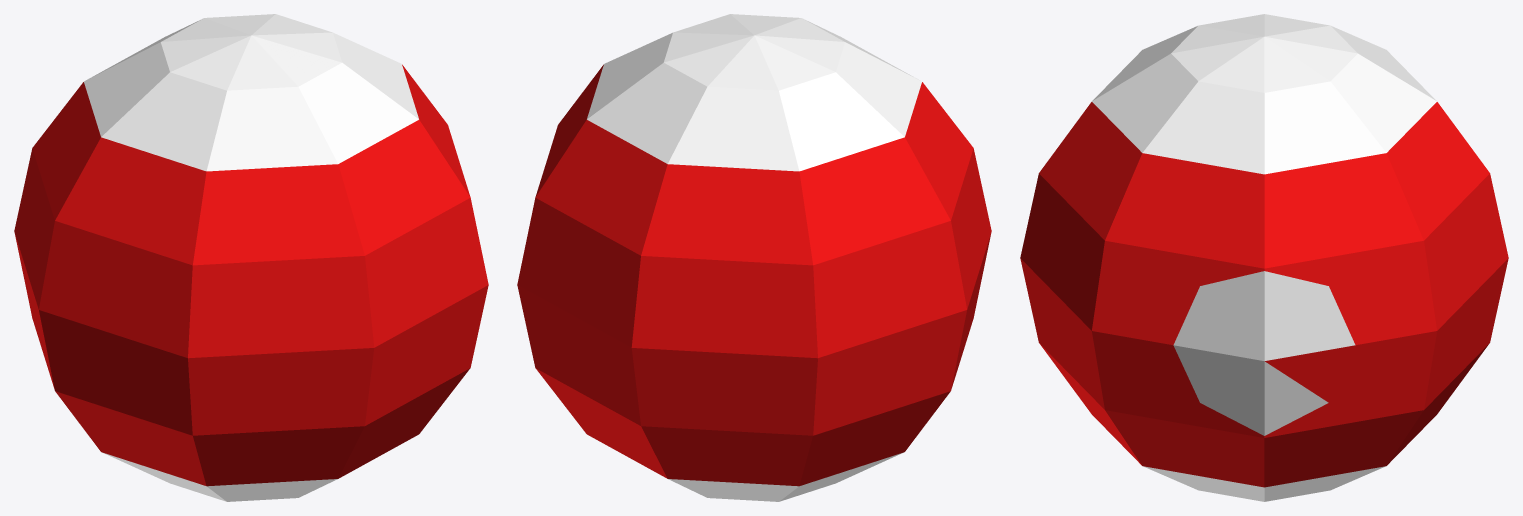
Rendered from vermelha2.obj.
The picture shows the model from 3 angles, left to right: view 1: azimuth 30°, elevation 25°; view 2: azimuth 150°, elevation 25°; view 3: azimuth 270°, elevation 25°; orthographic projection.
Visible parts, largest first — view 1: all_balls.006; view 2: all_balls.006; view 3: all_balls.006.
Boxes of the visible parts, x1,y1,x2,y2 form: all_balls.006: (14,14,488,501); all_balls.006: (517,14,991,501); all_balls.006: (1020,14,1508,501).
Size of the model in its own units: 0.3459 by 0.3459 by 0.3459.
